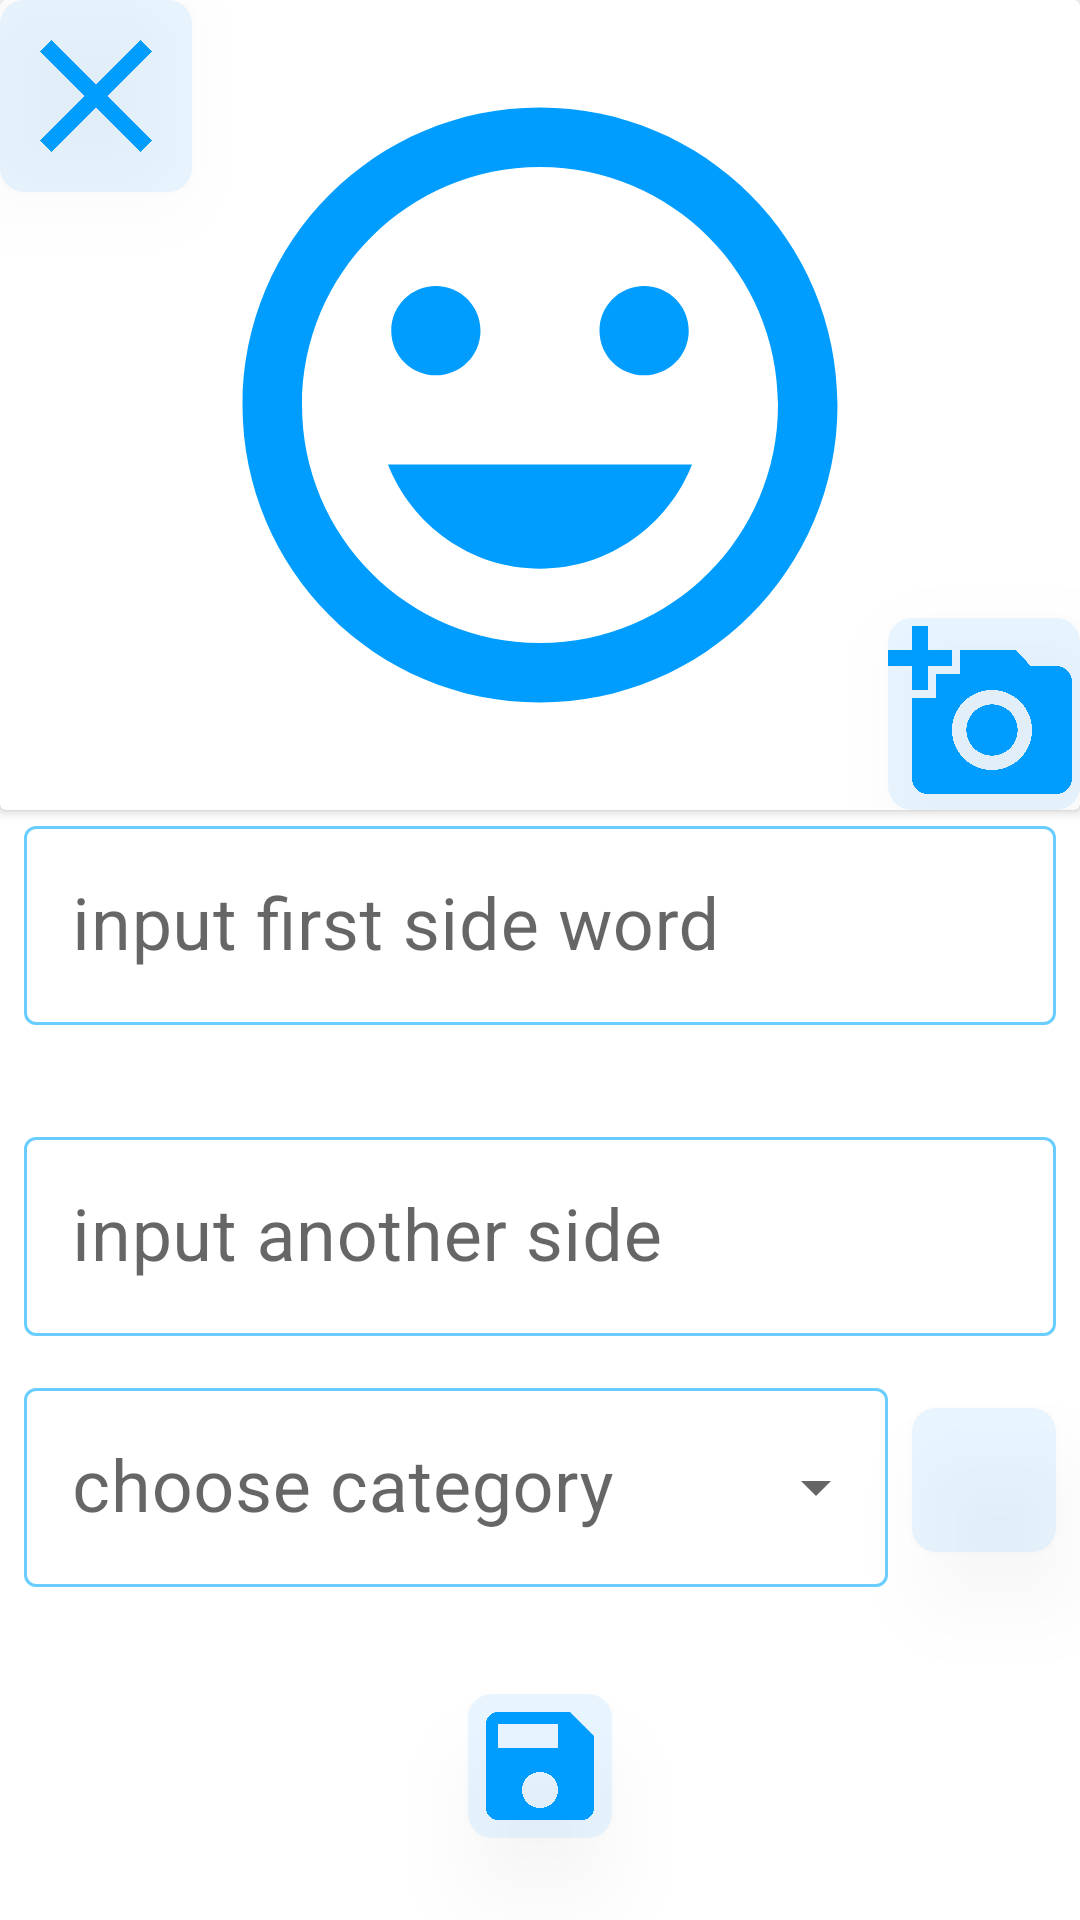

Screen size 1080px×1920px. Icon name, then its center in pixels as point (x, y):
delete picture: point (87, 99)
save: point (540, 1775)
take picture: point (984, 718)
